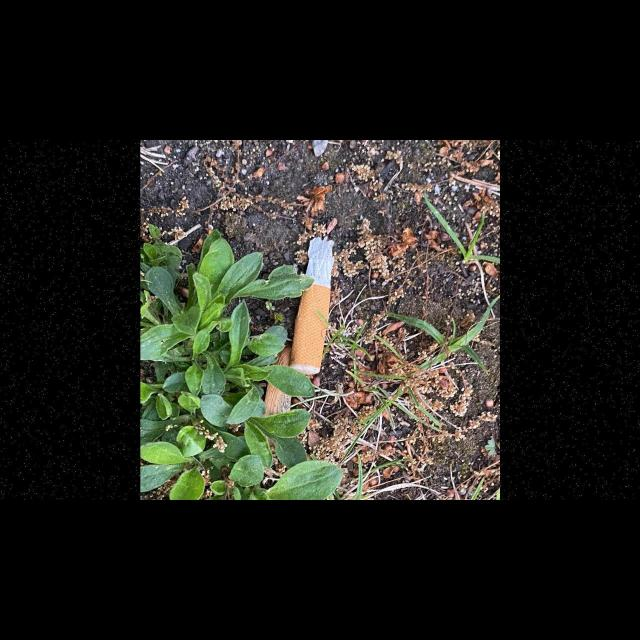cigarette: (288, 235, 335, 377)
